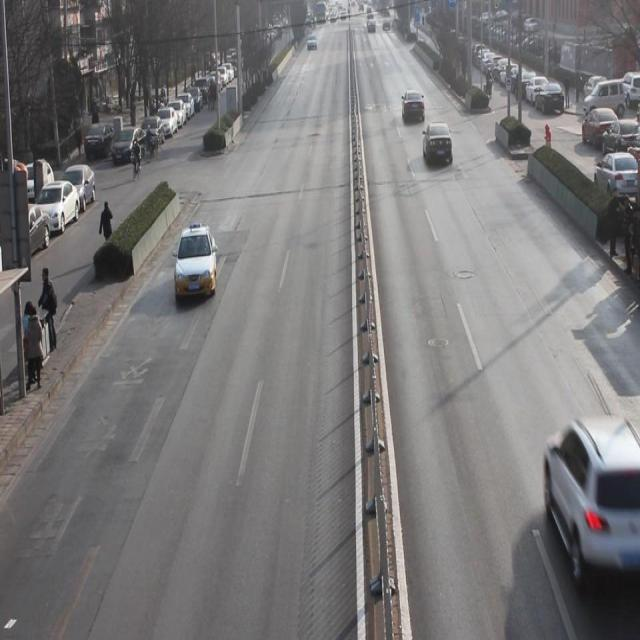car: (544, 418, 640, 574), (176, 222, 216, 304), (420, 121, 454, 168), (402, 89, 428, 128)
